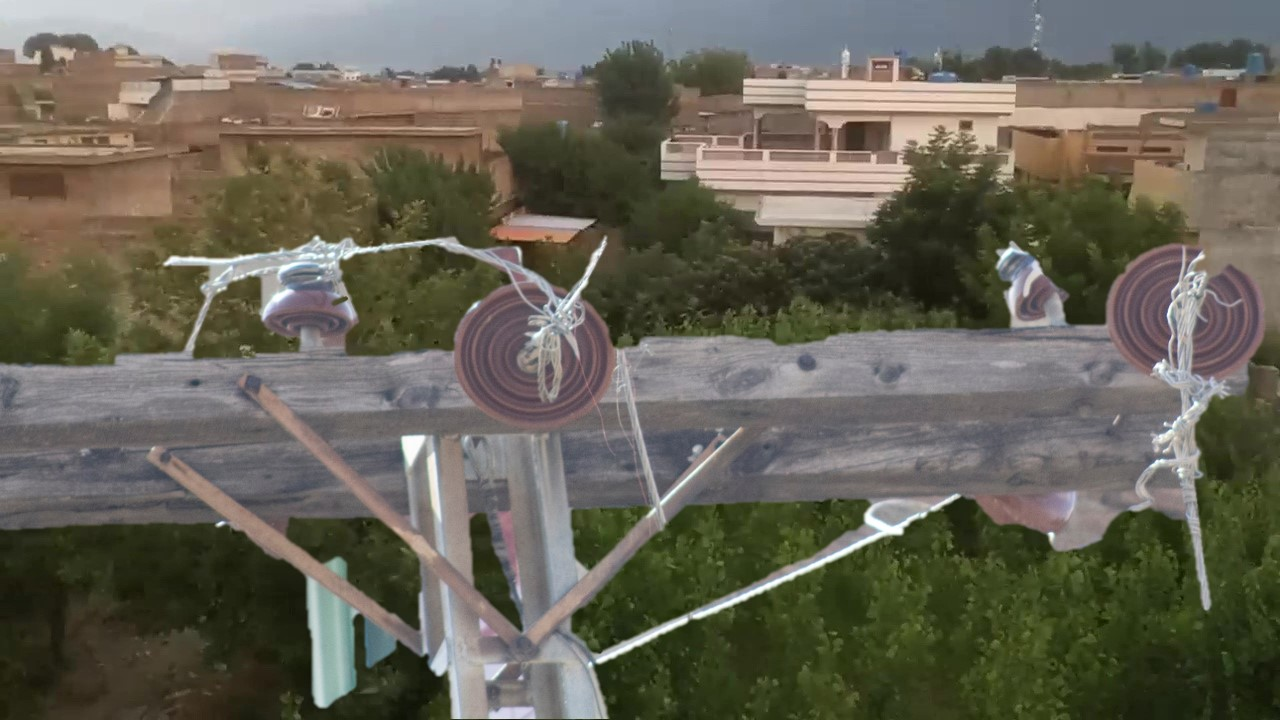defect_pin: (988, 234, 1075, 331)
insulator_disc: (449, 274, 620, 429), (1104, 231, 1266, 386)
insulator_pin: (254, 242, 366, 343)
